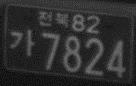2: (85, 36, 104, 76), (85, 14, 101, 35)
4: (106, 39, 126, 78)
7: (40, 31, 60, 72)
8: (62, 35, 81, 74), (71, 13, 84, 32)
가: (10, 27, 36, 57)
전북_O: (38, 9, 69, 29)
